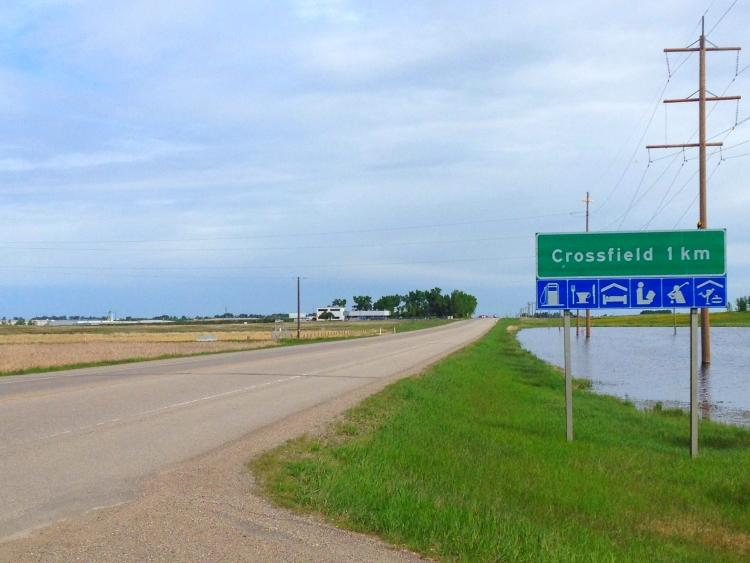traffic sign: (518, 220, 740, 458)
